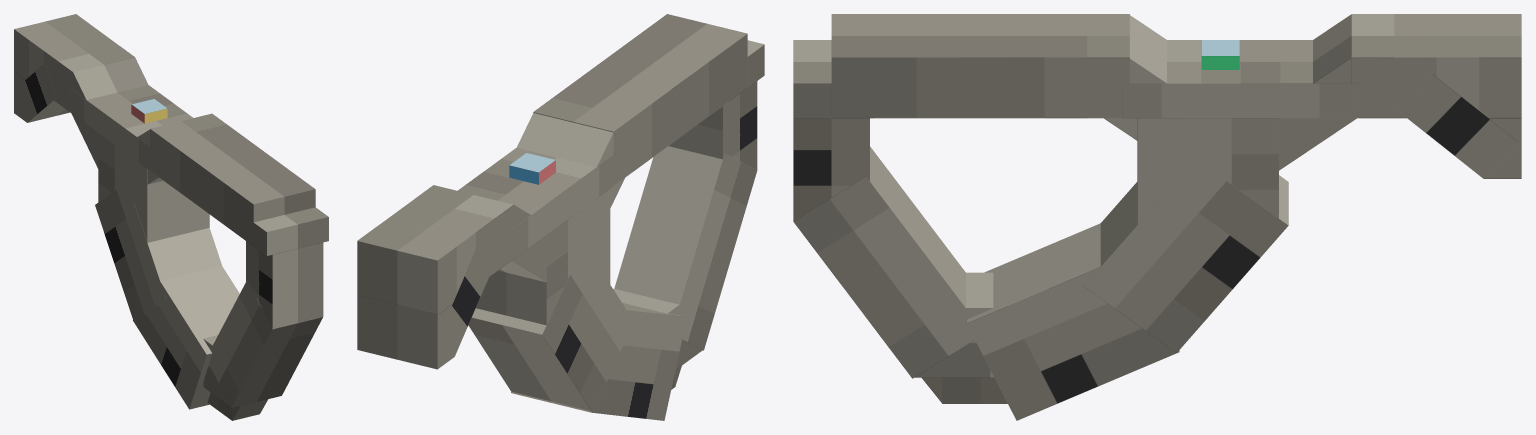
File: hera grip.obj
3 views of the same model, side by side, from view 1: azimuth 30°, elevation 25°; view 2: azimuth 150°, elevation 25°; view 3: azimuth 270°, elevation 25° (orthographic). The views are drawn at different scales.
Visible parts, largest first — view 1: grip_16, _ca_grip_1; view 2: grip_16, _ca_grip_1; view 3: grip_16, _ca_grip_1.
Boxes of the visible parts, x1,y1,x2,y2 form: grip_16: (14,14,328,420); _ca_grip_1: (131,99,167,123); grip_16: (357,14,764,420); _ca_grip_1: (509,152,555,184); grip_16: (793,14,1521,420); _ca_grip_1: (1201,40,1239,69).
Size of the model in its own units: 0.1691 by 0.6555 by 1.19.
